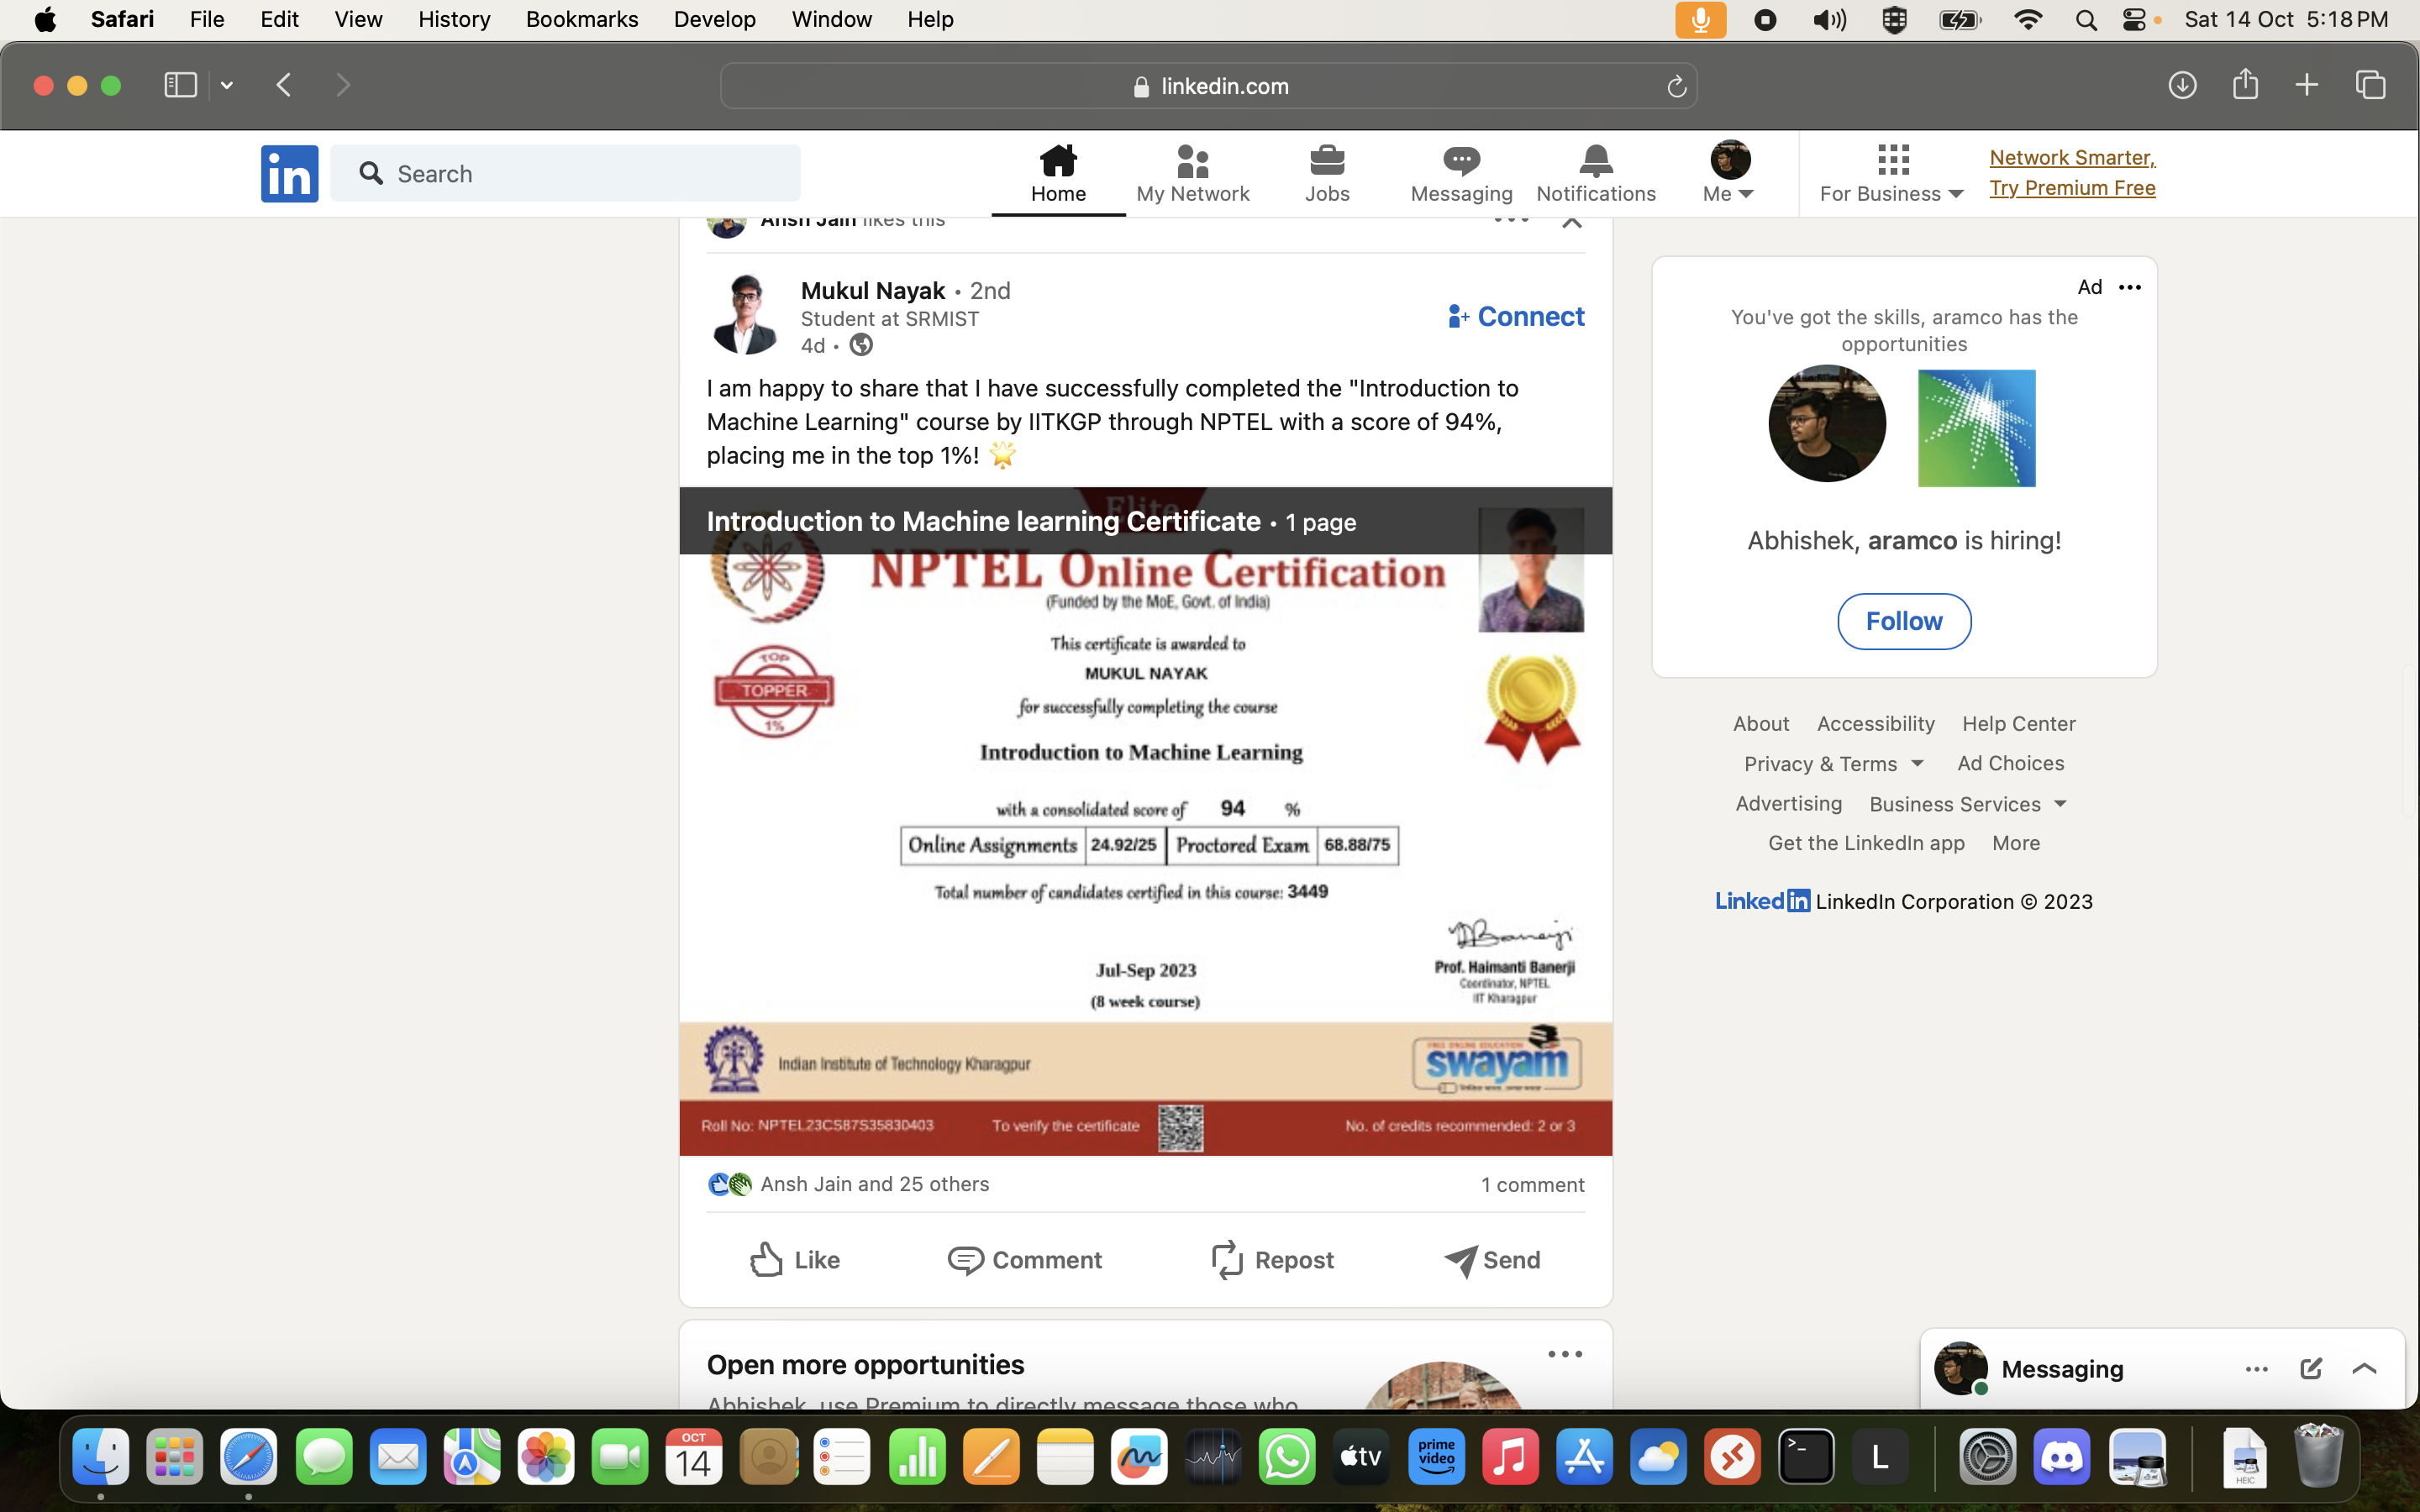Image: (1756, 364, 1887, 481), (1916, 378, 2030, 489)
Paragraph: (690, 489, 1612, 1165), (690, 371, 1540, 467), (1721, 298, 2085, 357), (1735, 521, 2079, 563), (800, 273, 1035, 333), (761, 1169, 1005, 1211), (1803, 171, 1958, 223), (988, 1235, 1129, 1282), (1458, 1165, 1612, 1207), (1242, 1242, 1359, 1289), (786, 1239, 871, 1296), (1122, 178, 1261, 213), (1523, 181, 1674, 213), (1403, 167, 1512, 209), (383, 155, 493, 195), (1690, 171, 1774, 219), (1866, 599, 1951, 641), (1016, 178, 1108, 209), (1484, 1247, 1561, 1275), (1303, 185, 1371, 206)
